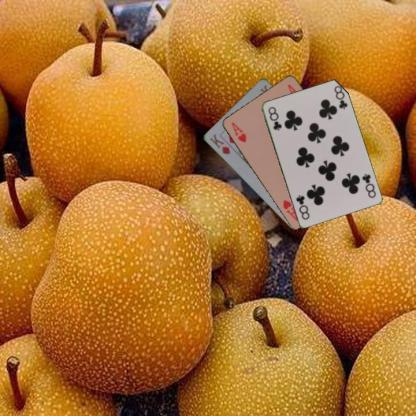8c: (265, 104, 283, 132), (359, 171, 377, 199)
Ah: (229, 119, 247, 144)
Kd: (207, 131, 232, 156)
